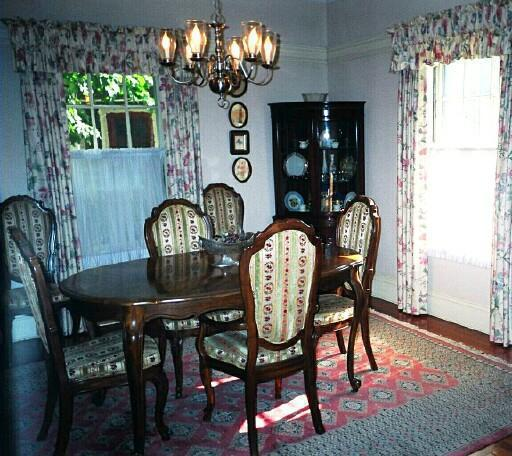Ventana: (416, 38, 504, 257)
